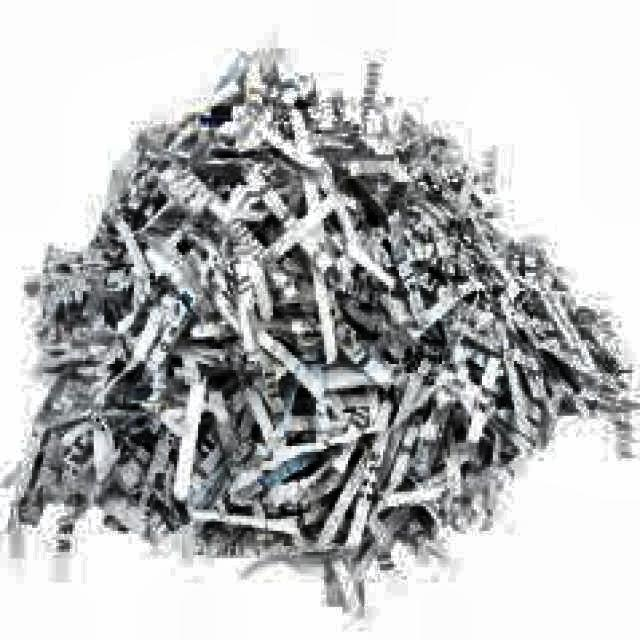Paper: (14, 36, 638, 616)
